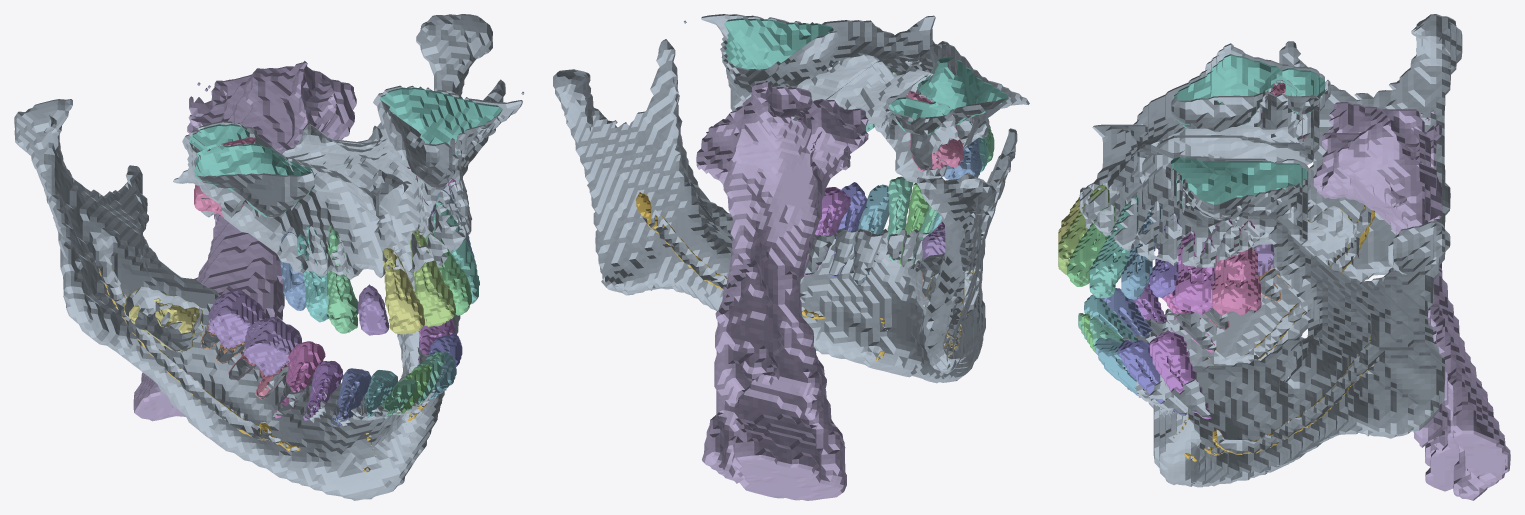
The model's file is ToothFairy3F_004.glb.
3 views of the same model, side by side, from view 1: azimuth 30°, elevation 25°; view 2: azimuth 150°, elevation 25°; view 3: azimuth 270°, elevation 25° (orthographic). The views are drawn at different scales.
Visible parts, largest first — view 1: jaws__1, jaws__2, airway__7, restorations__9, sinuses__5, sinuses__6, teeth__11, teeth__21, teeth__13, teeth__45, teeth__14, teeth__43 (+14 smaller); view 2: jaws__1, airway__7, jaws__2, sinuses__5, sinuses__6, teeth__35, teeth__33, teeth__32, teeth__18, teeth__34, teeth__15, teeth__31 (+2 smaller); view 3: jaws__1, jaws__2, airway__7, sinuses__5, sinuses__6, teeth__27, teeth__26, teeth__35, teeth__23, teeth__22, teeth__34, teeth__24 (+7 smaller).
Boxes of the visible parts, x1,y1,x2,y2 form: jaws__1: (14,14,505,500); jaws__2: (173,85,524,279); airway__7: (133,61,356,421); restorations__9: (208,289,301,376); sinuses__5: (380,87,502,155); sinuses__6: (189,124,314,217); teeth__11: (382,248,424,334); teeth__21: (410,230,455,326); teeth__13: (327,225,358,333); teeth__45: (273,341,325,418); teeth__14: (297,226,328,322); teeth__43: (331,368,371,426); jaws__1: (553,39,1017,383); airway__7: (696,81,868,500); jaws__2: (683,14,1029,183); sinuses__5: (724,18,833,69); sinuses__6: (888,57,1008,134); teeth__35: (804,187,850,276); teeth__33: (853,184,889,285); teeth__32: (887,176,913,261); teeth__18: (906,91,963,171); teeth__34: (829,182,867,277); teeth__15: (944,119,982,179); teeth__31: (900,183,928,265); jaws__1: (1122,14,1462,487); jaws__2: (1079,43,1330,267); airway__7: (1313,102,1510,500); sinuses__5: (1171,157,1308,206); sinuses__6: (1174,54,1325,128); teeth__27: (1212,220,1260,314); teeth__26: (1172,219,1232,314); teeth__35: (1149,330,1211,419); teeth__23: (1089,196,1140,297); teeth__22: (1067,205,1115,286); teeth__34: (1118,340,1186,415); teeth__24: (1121,204,1160,299).
Size of the model in its own units: 115 by 81.92 by 95.09.
